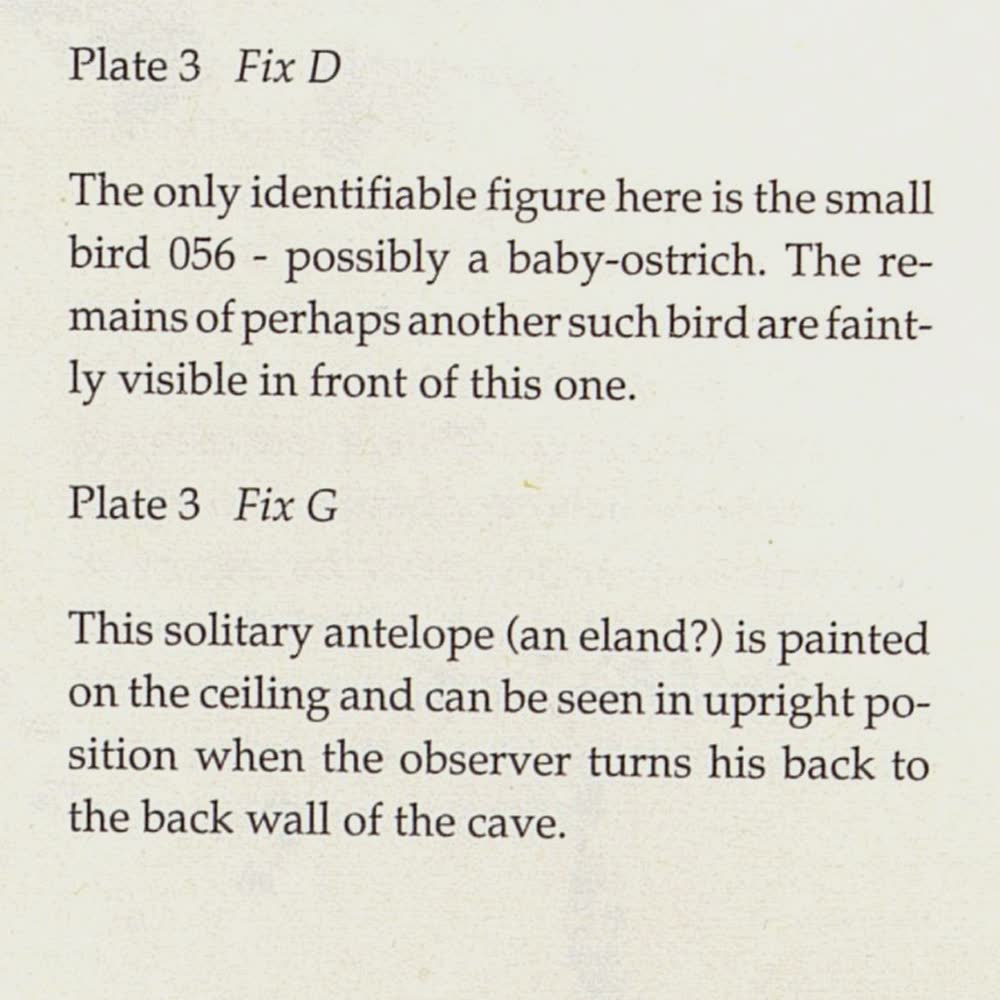text: (61, 472, 950, 890), (64, 36, 955, 432)
